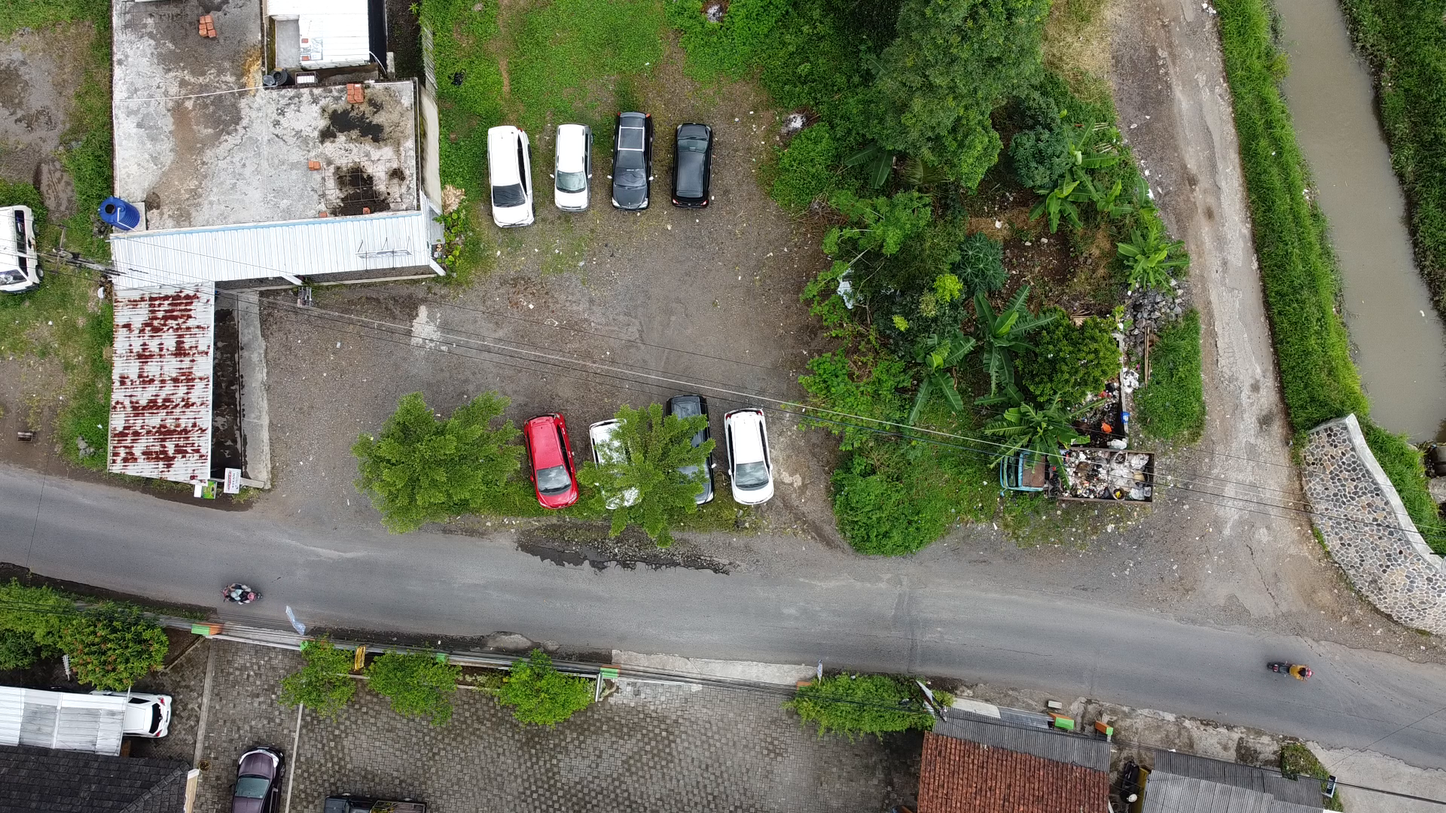mobil: (657, 386, 721, 516), (518, 405, 587, 517), (579, 416, 650, 519), (718, 402, 780, 515), (485, 117, 539, 240), (606, 105, 660, 221), (669, 106, 722, 213), (89, 682, 178, 742), (548, 110, 593, 221), (4, 199, 51, 303), (230, 739, 285, 813)
